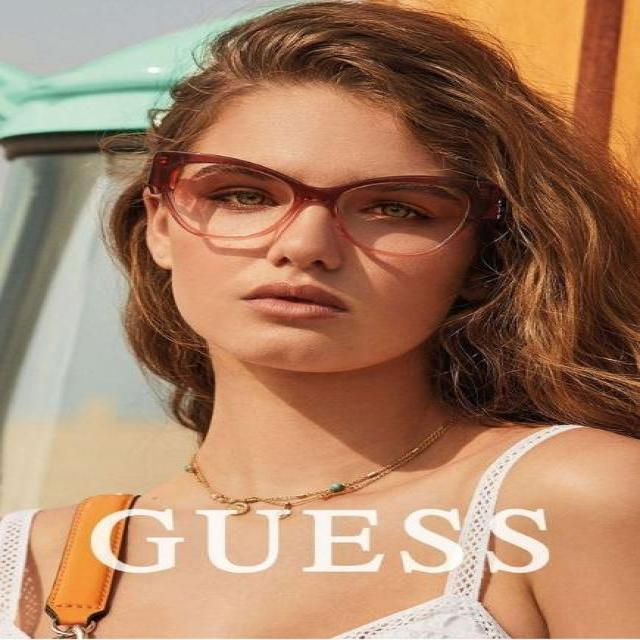glasses: (152, 150, 504, 258)
